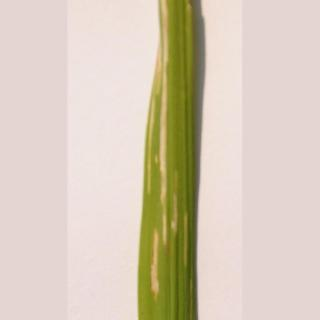Hawar-Daun: (137, 150, 198, 310), (142, 2, 185, 138)
